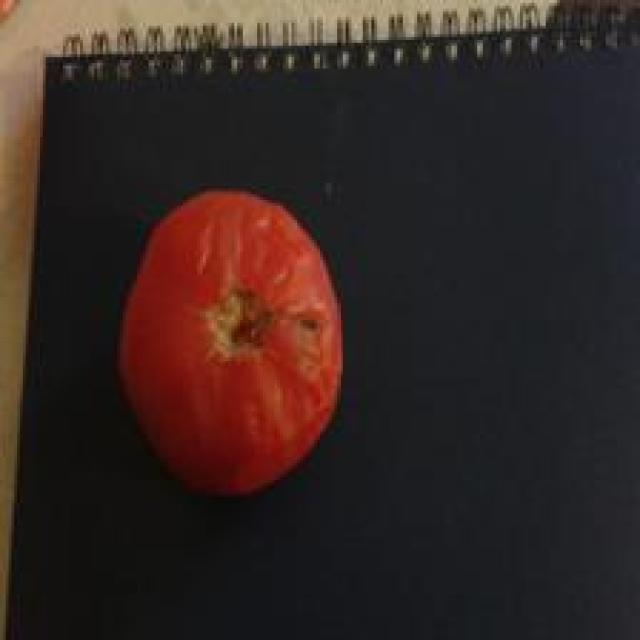overripe: (105, 186, 350, 498)
